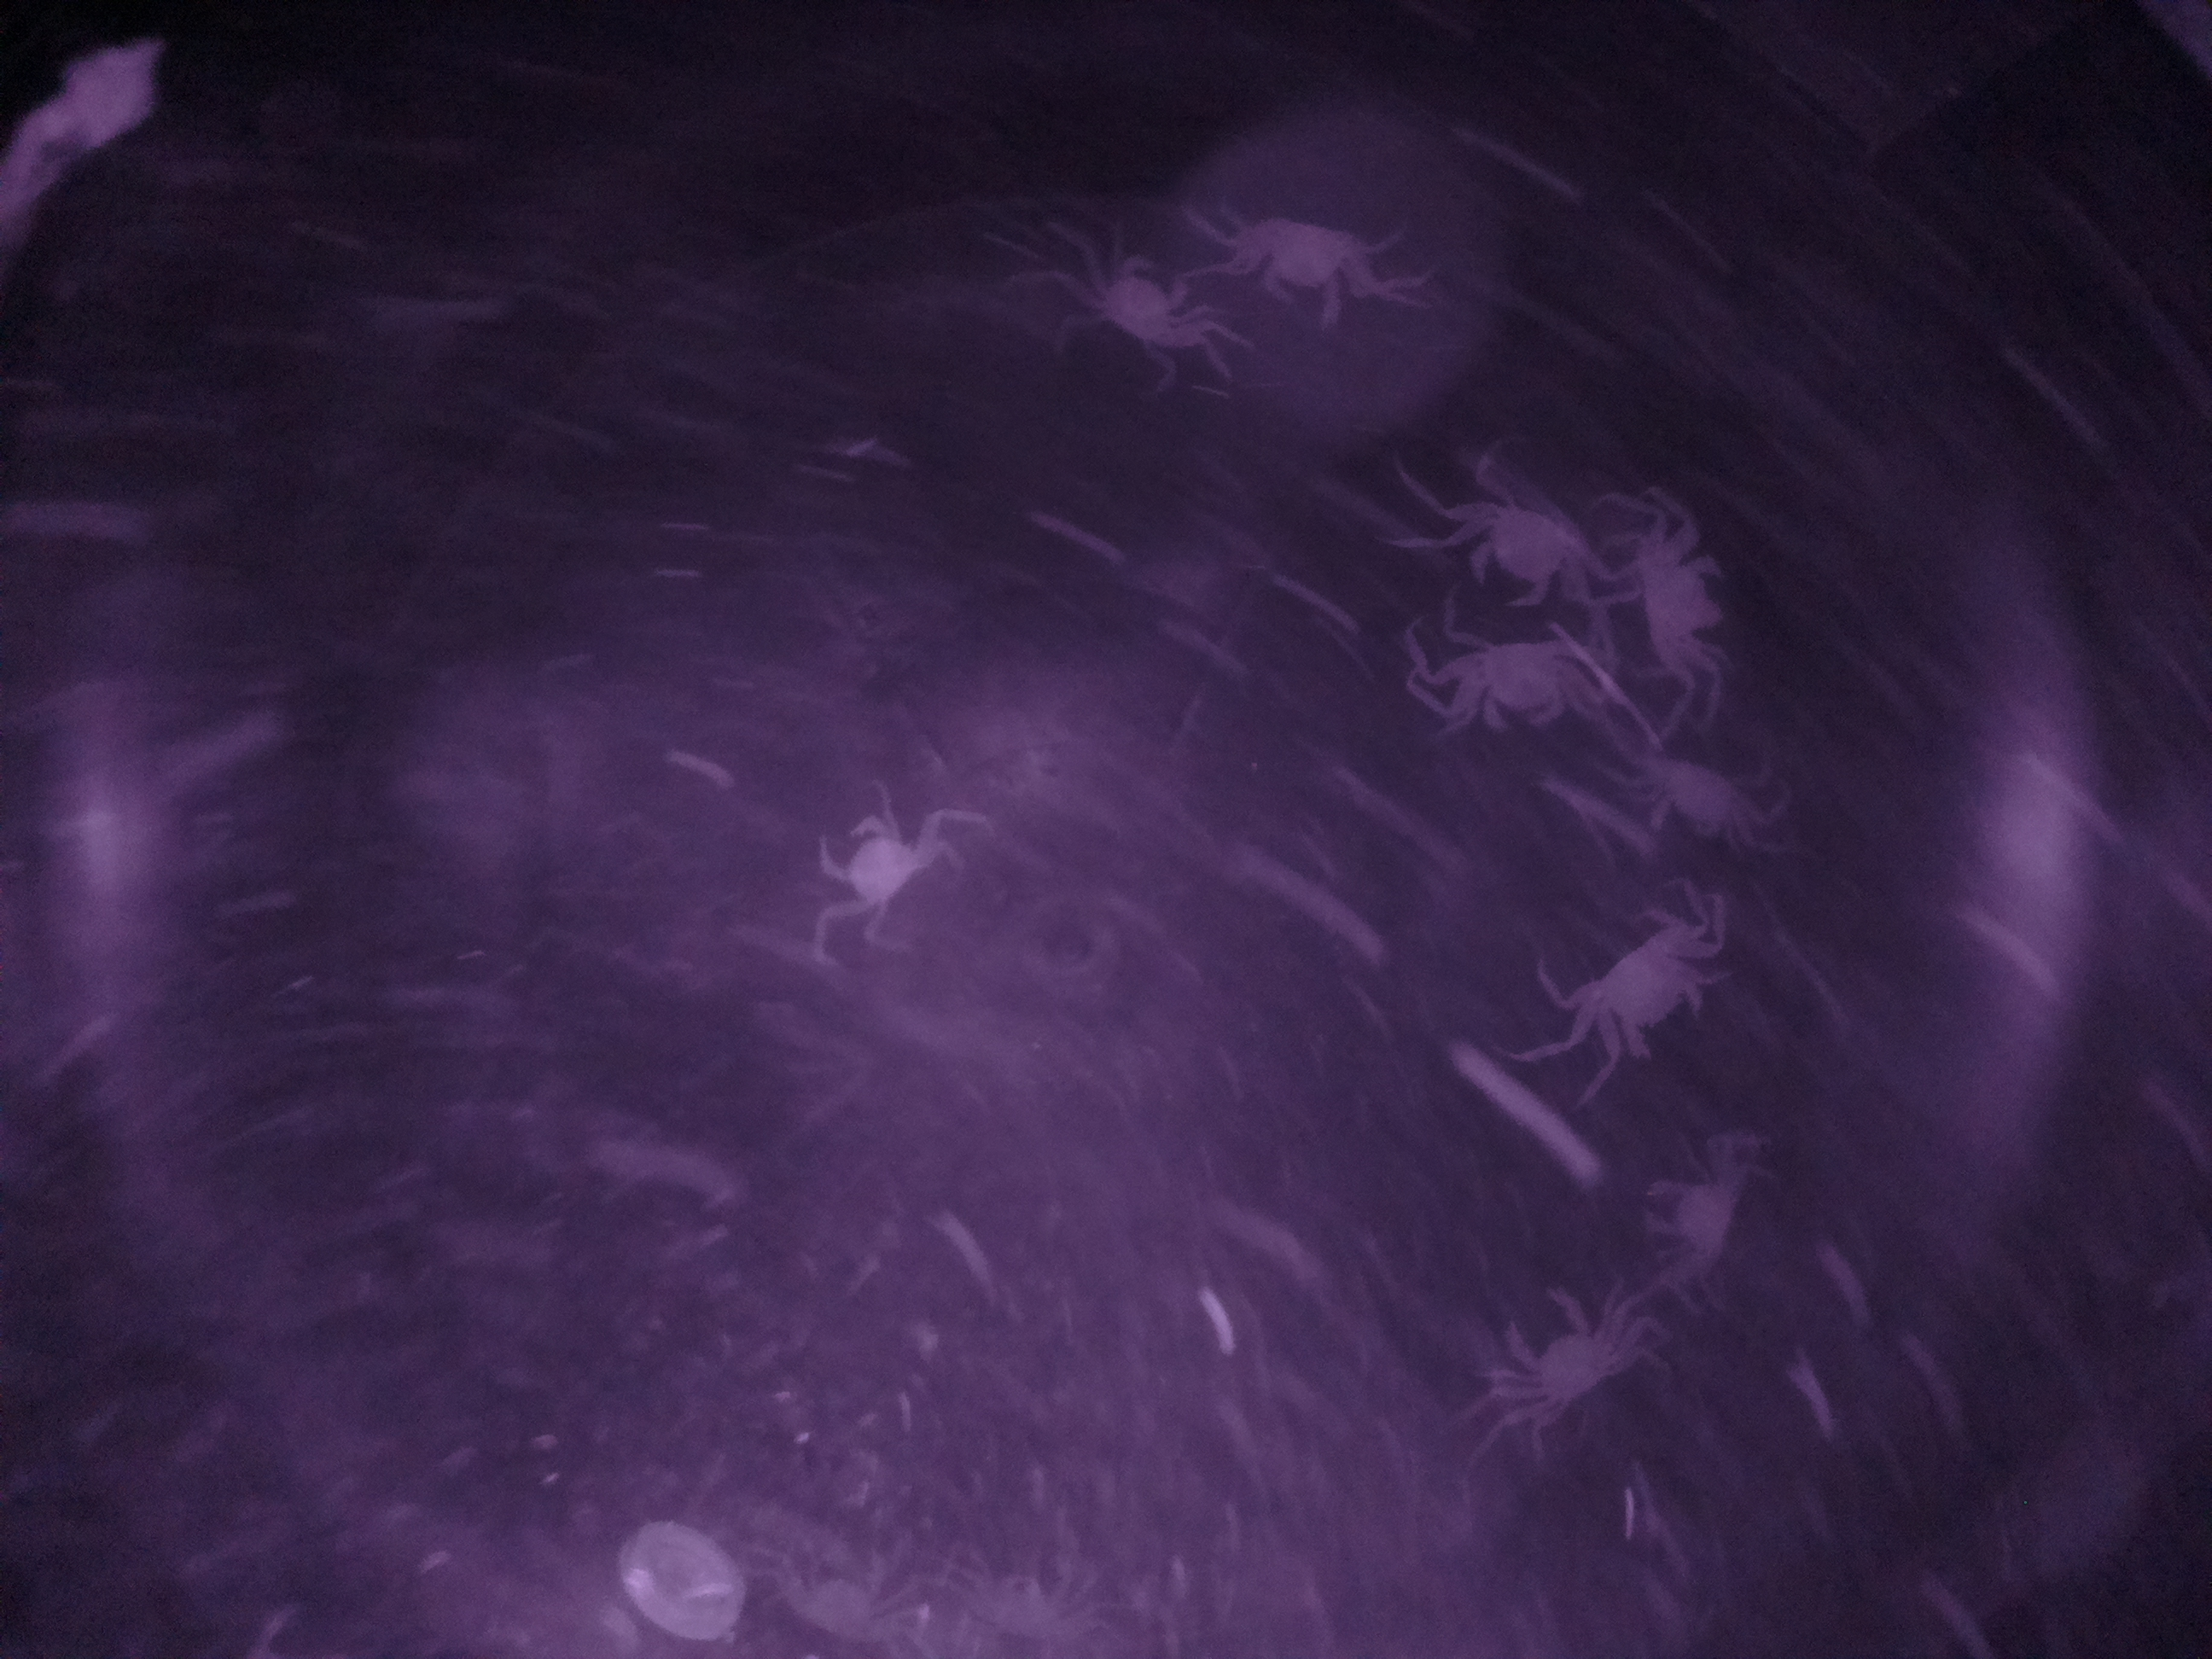Crab: (1545, 899, 1721, 1096), (1468, 1277, 1646, 1438), (1057, 216, 1219, 369), (1453, 462, 1613, 615), (1226, 188, 1381, 345), (1428, 627, 1599, 753)
